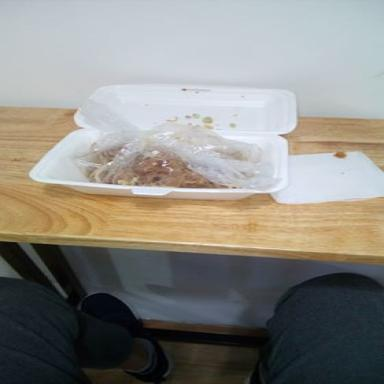plasticbag: (39, 84, 302, 194)
